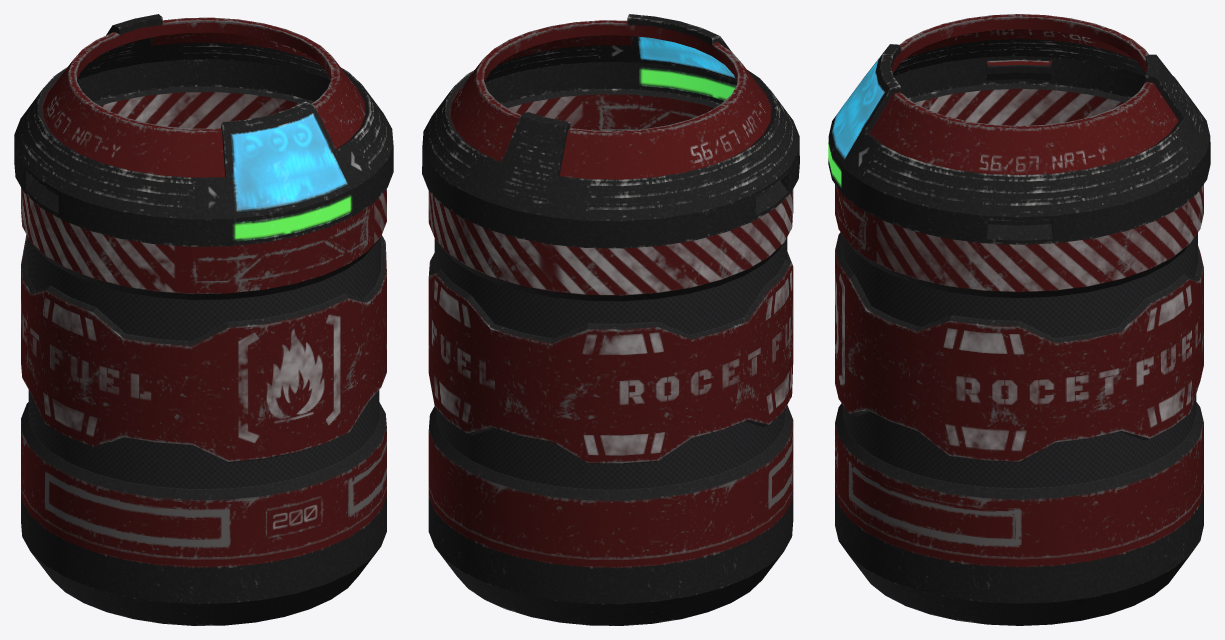
File: Barrel_LP001.fbx
3 views of the same model, side by side, from view 1: azimuth 30°, elevation 25°; view 2: azimuth 150°, elevation 25°; view 3: azimuth 270°, elevation 25° (orthographic).
Parts seen in each view (by area): view 1: Barrel_low; view 2: Barrel_low; view 3: Barrel_low.
Boxes of the visible parts, x1,y1,x2,y2 form: Barrel_low: (14,14,393,625); Barrel_low: (422,14,799,625); Barrel_low: (828,14,1210,625).
Size of the model in its own units: 57.02 by 81.01 by 57.02.
1 material, 1 textured.
